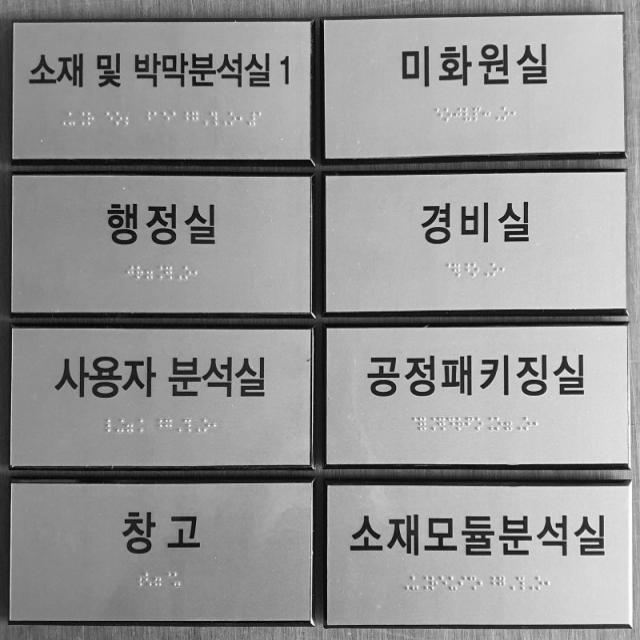braiile: (470, 262, 480, 278), (494, 416, 504, 432), (448, 575, 458, 591), (458, 575, 468, 591), (500, 262, 510, 277), (474, 416, 484, 431), (523, 416, 533, 431), (190, 110, 199, 126), (492, 106, 501, 122), (501, 106, 510, 122), (504, 416, 513, 432), (401, 575, 410, 591), (410, 575, 419, 591), (420, 574, 429, 590), (429, 575, 438, 591), (468, 575, 477, 591), (472, 107, 482, 121), (436, 417, 446, 431), (181, 111, 190, 126), (452, 263, 461, 278), (490, 262, 499, 277), (533, 416, 542, 431), (173, 572, 182, 587), (497, 576, 506, 591), (152, 110, 160, 126), (485, 416, 493, 432), (439, 574, 447, 590), (478, 575, 486, 591), (146, 265, 154, 281), (155, 418, 163, 434), (164, 572, 172, 588), (443, 108, 452, 122), (463, 107, 472, 121), (418, 417, 427, 431), (446, 417, 455, 431), (456, 417, 465, 431), (68, 112, 76, 127), (87, 111, 95, 126), (124, 111, 132, 126), (143, 111, 151, 126), (162, 111, 170, 126), (229, 111, 237, 126), (511, 106, 519, 121), (442, 263, 450, 278), (462, 263, 470, 278), (409, 416, 417, 431), (428, 416, 436, 431), (514, 416, 522, 431), (184, 418, 192, 433), (193, 418, 201, 433), (203, 418, 211, 433), (154, 572, 162, 587), (144, 572, 152, 587), (136, 572, 144, 587), (516, 576, 524, 591), (453, 108, 462, 121), (58, 112, 66, 126), (172, 111, 180, 125), (482, 107, 490, 121), (481, 263, 489, 277), (466, 417, 474, 431), (156, 266, 164, 280), (165, 266, 173, 280), (175, 265, 182, 281), (194, 266, 202, 280), (116, 419, 124, 433), (174, 419, 182, 433), (488, 576, 496, 590), (527, 576, 535, 590), (536, 576, 544, 590), (546, 576, 554, 590), (204, 111, 211, 126), (184, 265, 191, 280), (107, 418, 114, 433), (126, 418, 133, 433), (213, 418, 220, 433), (210, 112, 218, 125), (248, 112, 256, 125), (258, 112, 266, 125), (435, 108, 443, 121), (78, 112, 85, 126), (116, 112, 123, 126), (127, 266, 134, 280), (136, 266, 143, 280), (136, 419, 143, 433), (165, 419, 172, 433), (508, 576, 515, 590), (236, 111, 242, 127), (106, 112, 113, 125), (221, 111, 227, 126)
